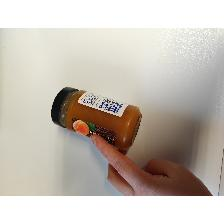Marmelade: (49, 87, 142, 153)
